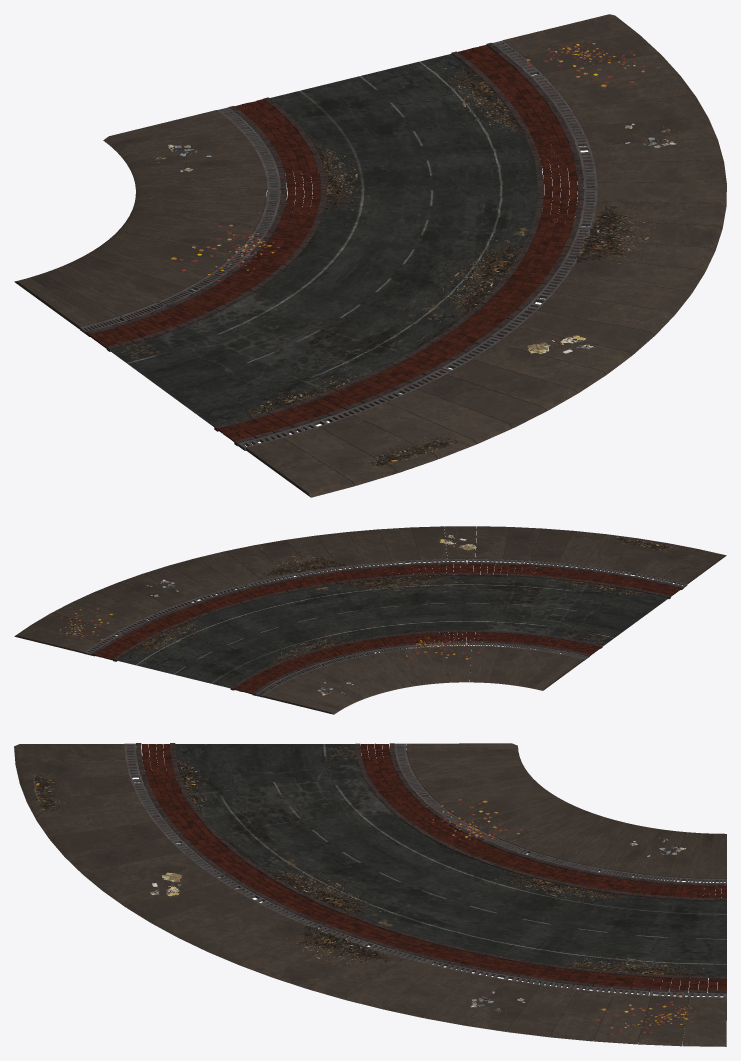
The model's file is ROAD CURVE.fbx.
3 renders of one model, top to bottom at view 1: azimuth 30°, elevation 25°; view 2: azimuth 150°, elevation 25°; view 3: azimuth 270°, elevation 25°, orthographic. The views are drawn at different scales.
Visible parts, largest first — view 1: Plane.011; view 2: Plane.011; view 3: Plane.011.
Part boxes in pixels (box(x1,y1,x2,y2)): Plane.011: box(14, 14, 726, 497); Plane.011: box(14, 526, 726, 714); Plane.011: box(14, 743, 726, 1046).
Bounding box in the file's own units: 3779 × 20.62 × 3765.
